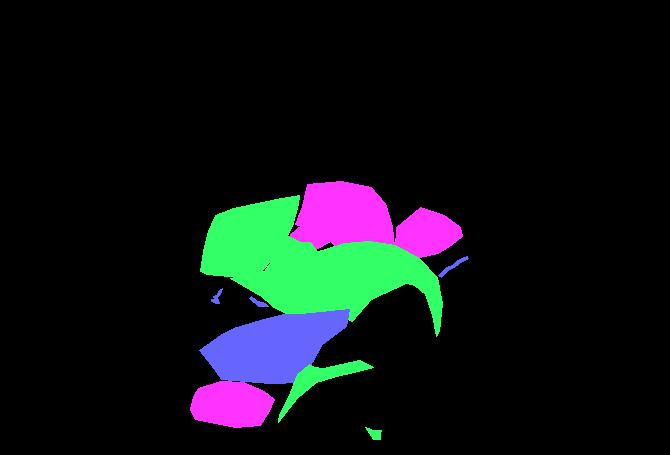Broken part: (230, 236, 442, 336), (200, 195, 299, 276), (278, 360, 373, 422), (365, 427, 381, 439)
Dent: (295, 181, 394, 247), (190, 381, 274, 427), (395, 207, 462, 257), (284, 225, 330, 260)
Paint chip: (403, 236, 433, 257)
Scratch: (199, 309, 349, 383), (438, 256, 468, 277), (249, 296, 268, 306), (211, 288, 222, 303)
